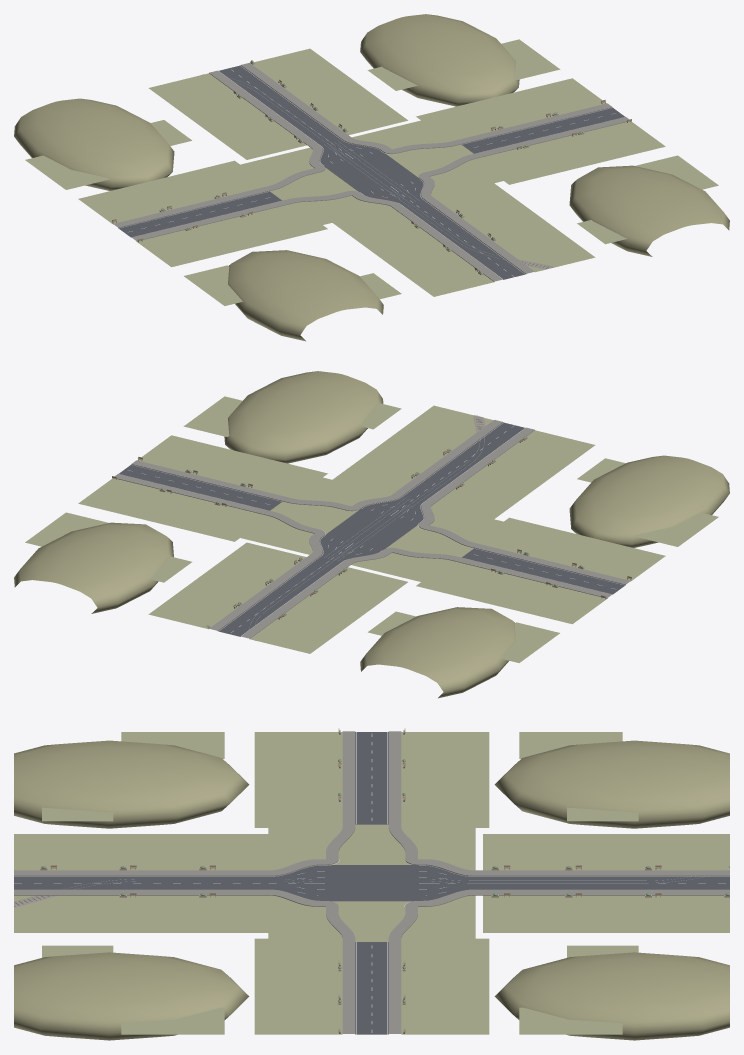
3 views of the same model, one above another, from view 1: azimuth 30°, elevation 25°; view 2: azimuth 150°, elevation 25°; view 3: azimuth 270°, elevation 25° (orthographic). The views are drawn at different scales.
Visible parts, largest first — view 1: static; view 2: static; view 3: static.
Boxes of the visible parts, x1=… form: static: x1=14, y1=14, x2=729, y2=341; static: x1=14, y1=371, x2=729, y2=698; static: x1=14, y1=728, x2=729, y2=1040.
Size of what is drawn, in the model's own units: 180 by 14.08 by 180.
